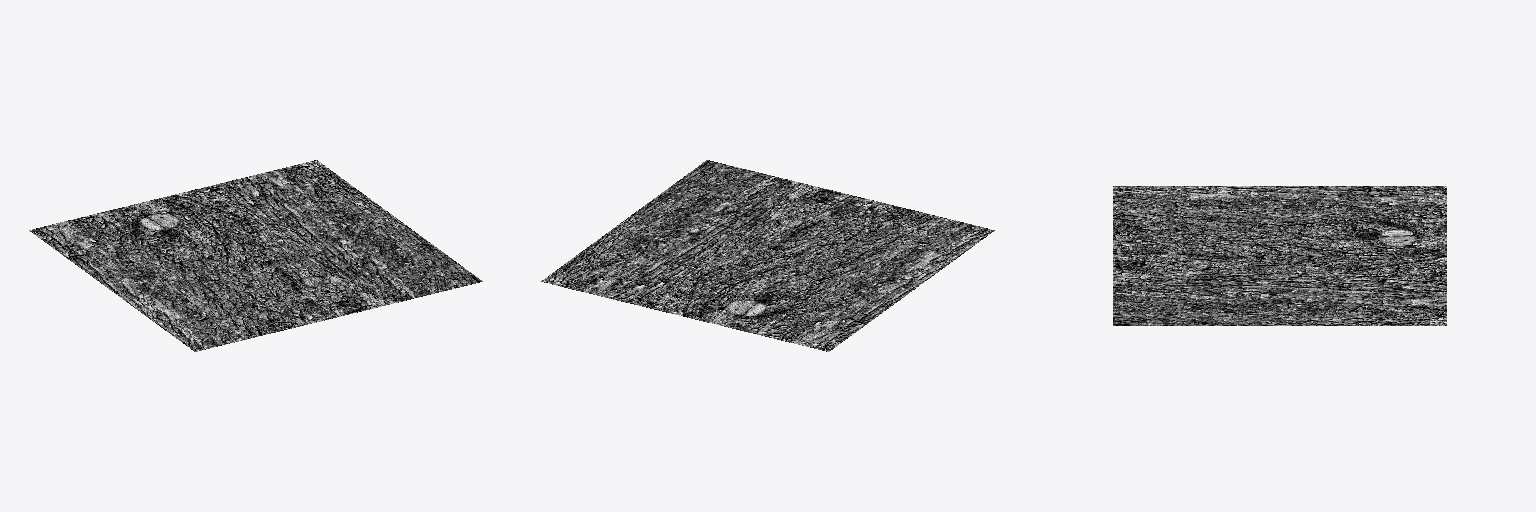
The picture shows the model from 3 angles: view 1: azimuth 30°, elevation 25°; view 2: azimuth 150°, elevation 25°; view 3: azimuth 270°, elevation 25°; orthographic projection.
Visible parts, largest first — view 1: wood_Plane.006; view 2: wood_Plane.006; view 3: wood_Plane.006.
Boxes of the visible parts, box(x1,y1,x2,y2) form: wood_Plane.006: box(29, 160, 482, 351); wood_Plane.006: box(541, 160, 994, 351); wood_Plane.006: box(1113, 186, 1446, 325).
Bounding box in the file's own units: 2 × 0 × 2.
1 materials, 1 textured.